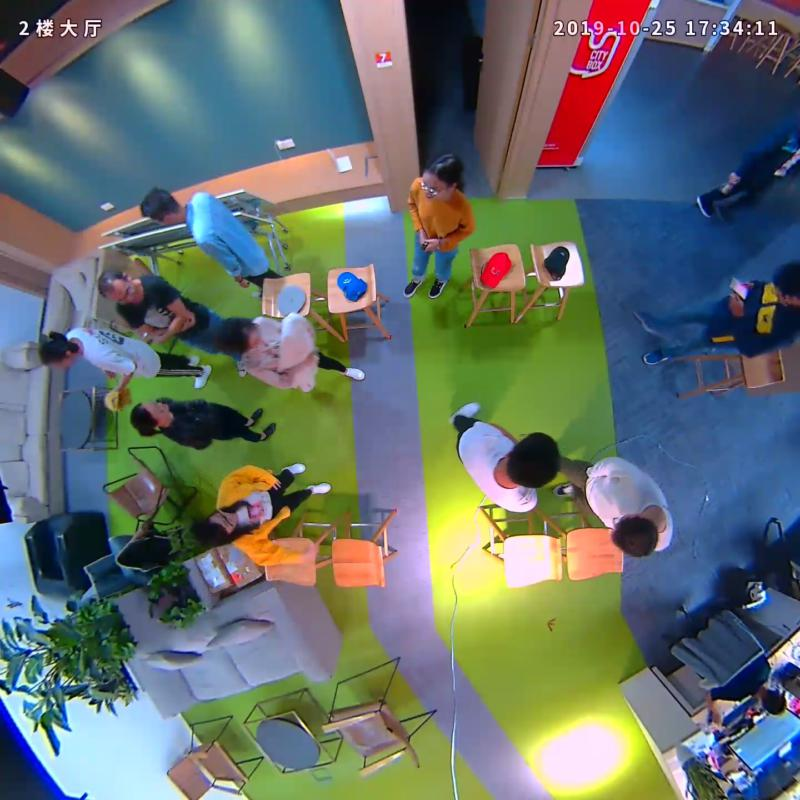head: (505, 432, 561, 491), (419, 151, 463, 203), (611, 515, 658, 557), (217, 316, 261, 354), (196, 508, 240, 546), (96, 268, 141, 305), (140, 187, 181, 223), (130, 399, 169, 433), (772, 260, 800, 306), (39, 336, 74, 369)
